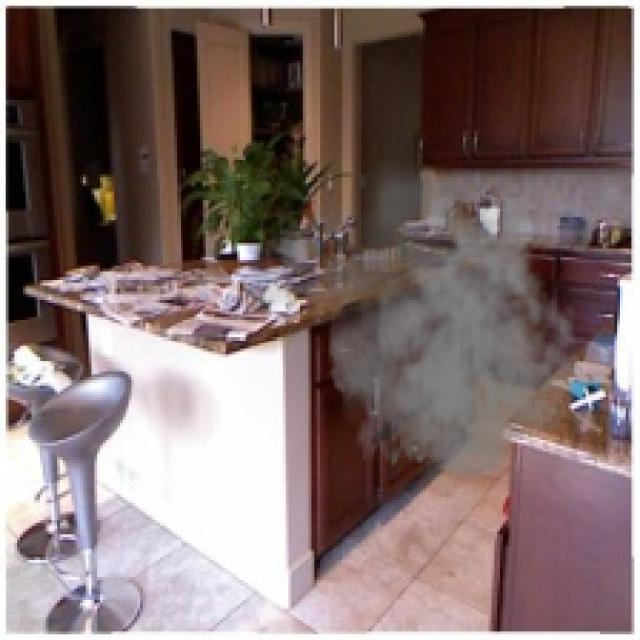Smoke: (237, 154, 586, 503)
